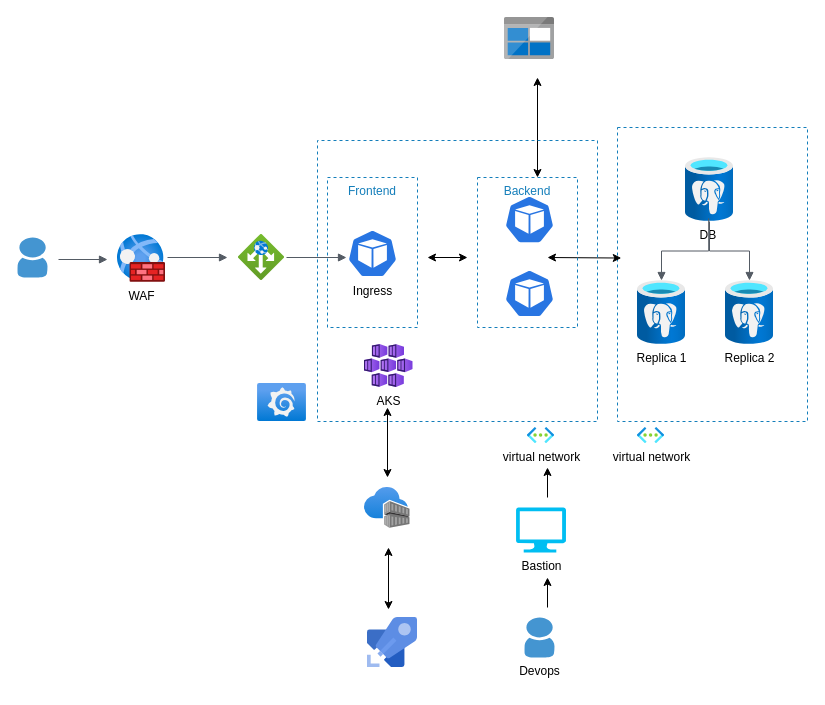
The diagram is 825 pixels wide and 705 high, and some of its shapes have lost their labels. The centre of each missing label's shape, as x and y in pixels:
Blob storage: (529,38)
CI/CD Pipeline: (392,642)
Container registry: (387,507)
Grafana: (281,402)
Load Balancer: (261,257)
User: (32,257)
